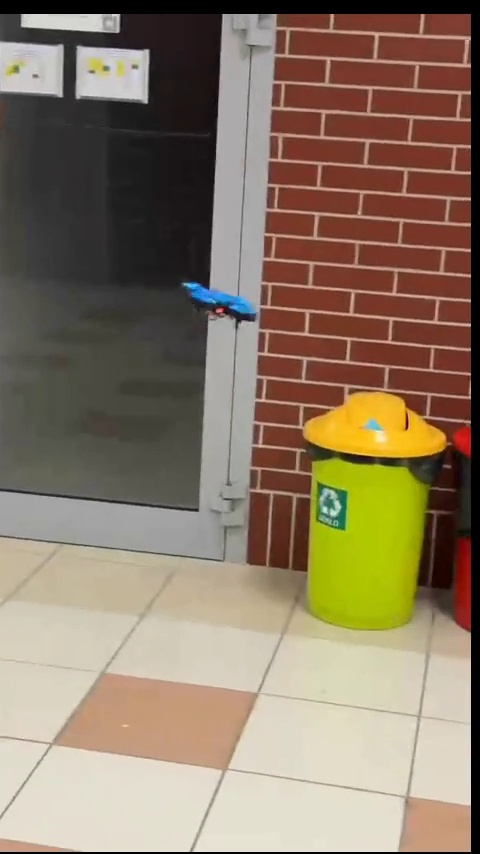drone: (178, 279, 257, 326)
